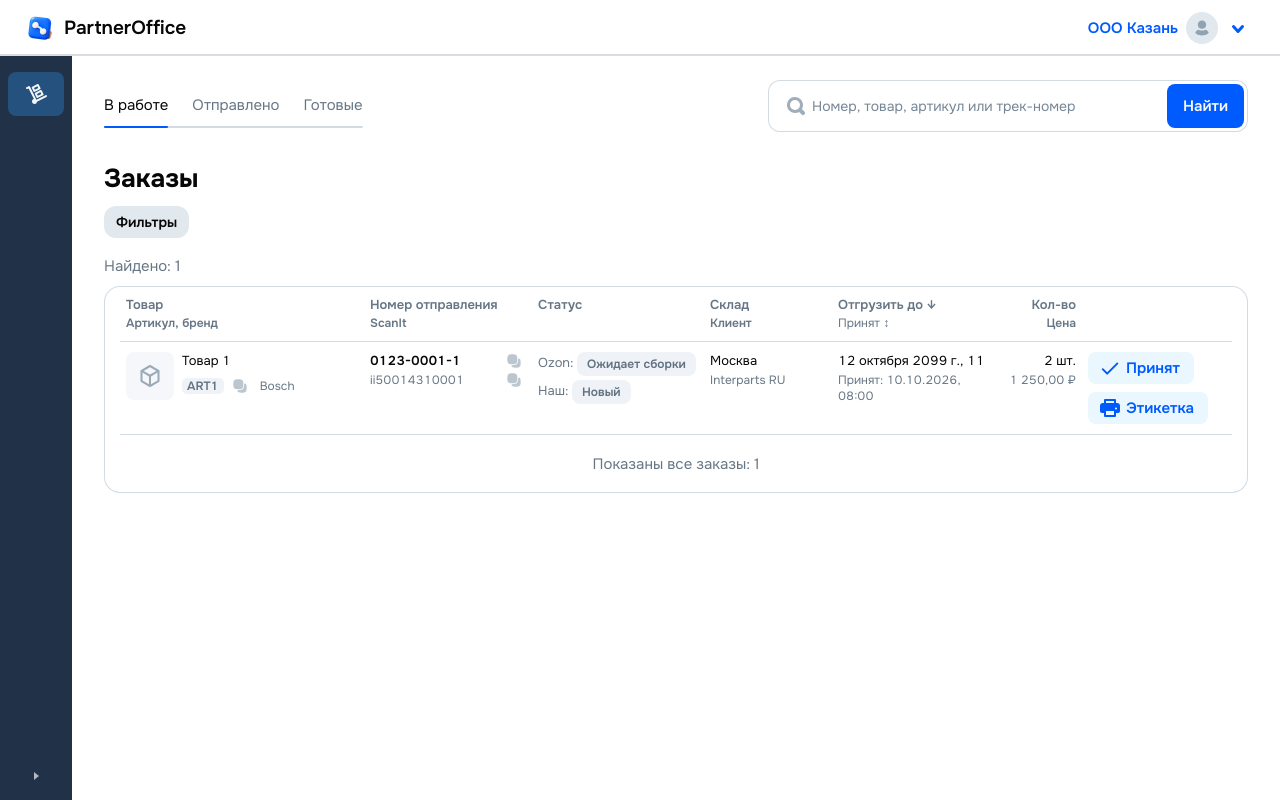
Статус Studio2: «Принят» → «Отгрузить» › просит подтверждение, и до подтверждения ничего не уходит на сервер
Click the button "Принят".
click(1141, 368)  # box x1=1088 y1=352 x2=1194 y2=384
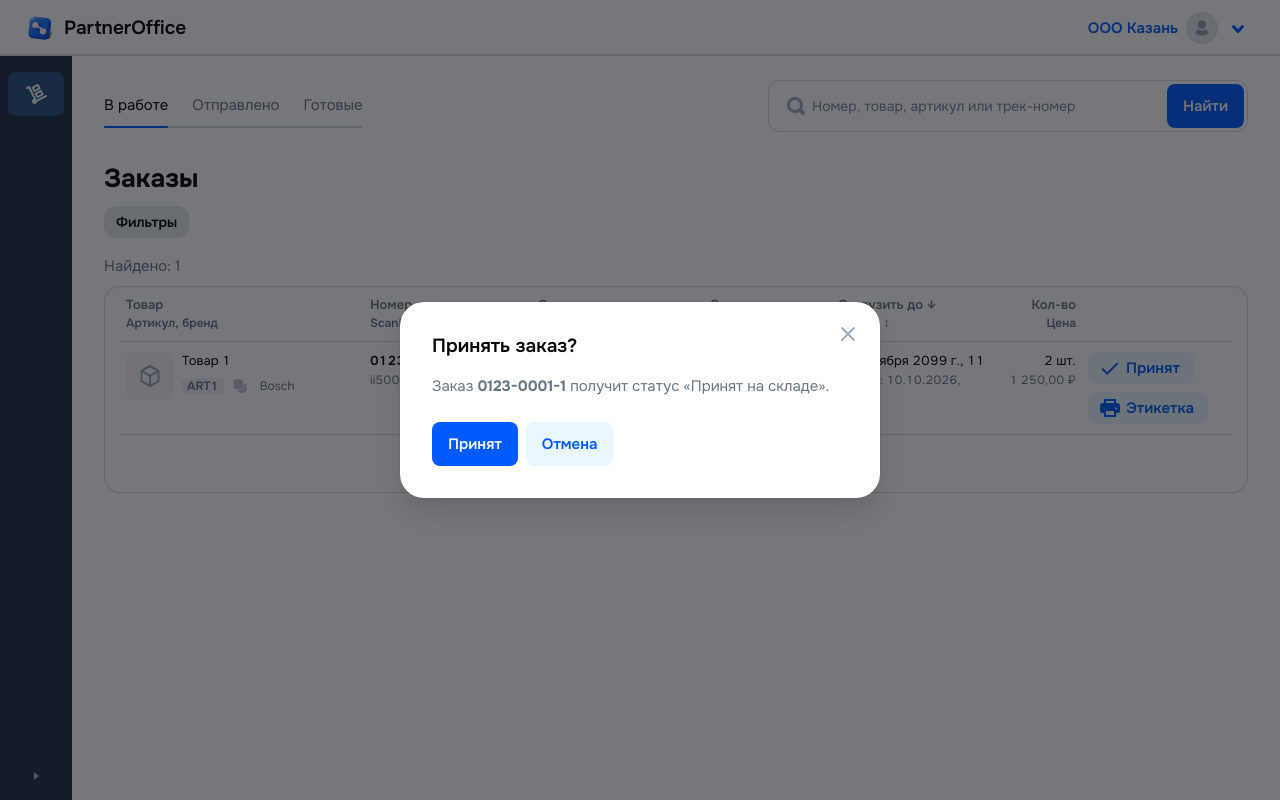
Expected: the dialog "Принять заказ?" shows "получит статус «Принят на складе»", x1=400 y1=302 x2=880 y2=498
Click the button "Отмена".
click(570, 444)  # box x1=526 y1=422 x2=613 y2=466
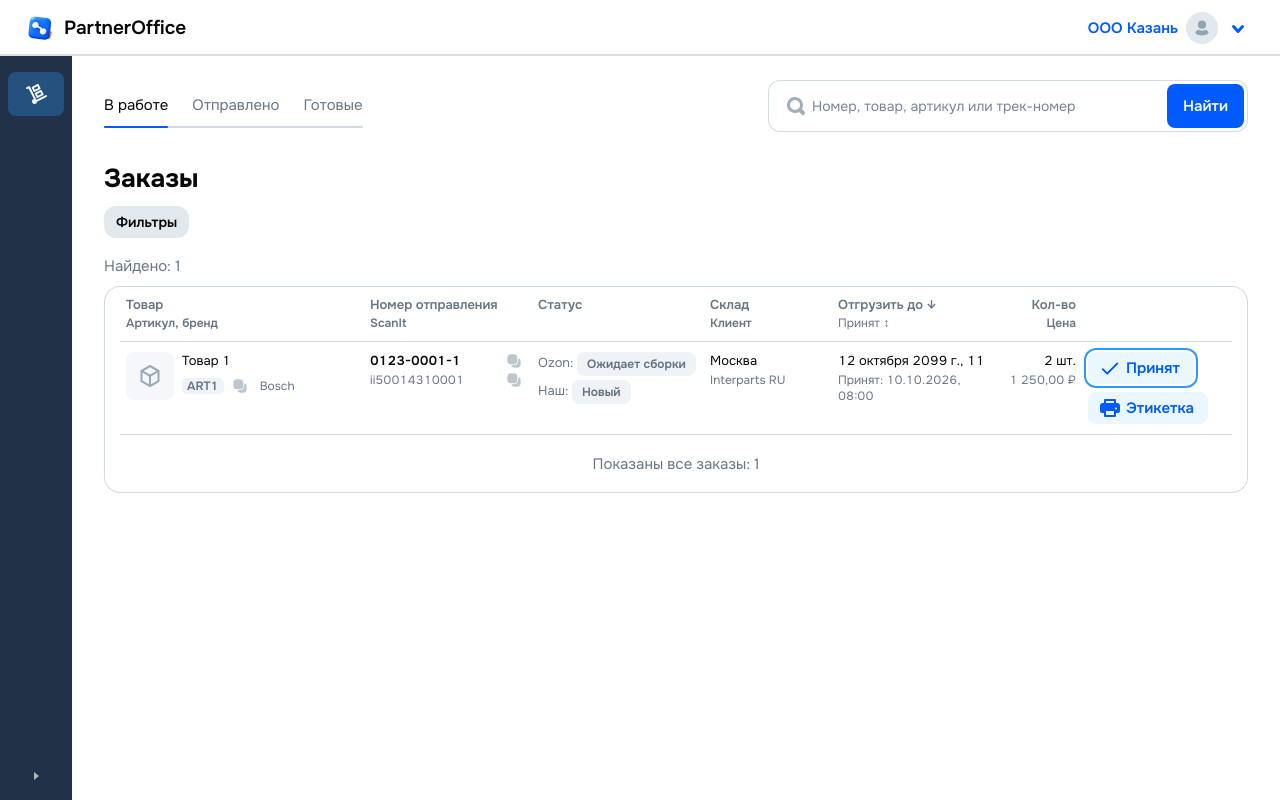
Expected: the dialog is gone
